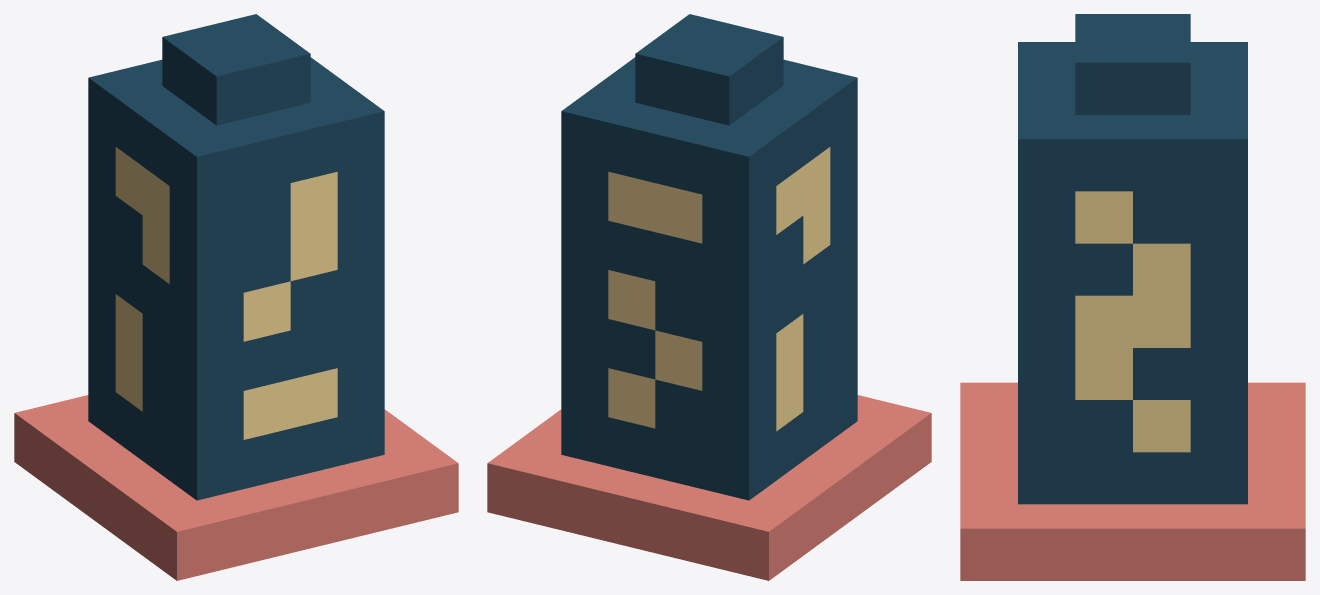
The model's file is BS_Pillar_Small.fbx.
3 renders of one model, left to right at view 1: azimuth 30°, elevation 25°; view 2: azimuth 150°, elevation 25°; view 3: azimuth 270°, elevation 25°, orthographic. The views are drawn at different scales.
Parts seen in each view (by area): view 1: BS_Pillar_Small; view 2: BS_Pillar_Small; view 3: BS_Pillar_Small.
Part boxes in pixels (x1,y1,x2,y2): BS_Pillar_Small: (14,14,458,580); BS_Pillar_Small: (487,14,931,580); BS_Pillar_Small: (960,14,1305,580).
Size of the model in its own units: 15 by 15 by 22.5.
